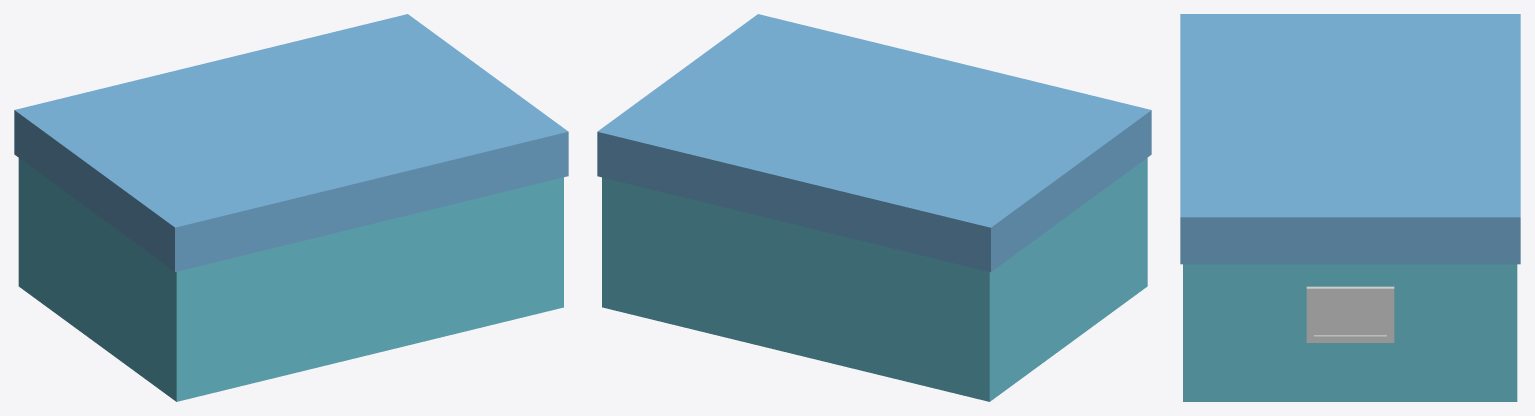
The picture shows the model from 3 angles, left to right: view 1: azimuth 30°, elevation 25°; view 2: azimuth 150°, elevation 25°; view 3: azimuth 270°, elevation 25°; orthographic projection. The views are drawn at different scales.
Parts seen in each view (by area): view 1: Kansi, Laatikko; view 2: Kansi, Laatikko; view 3: Kansi, Laatikko, Etiketti, Kehys.
Boxes of the visible parts, box(x1,y1,x2,y2) form: Kansi: box(14, 14, 568, 271); Laatikko: box(18, 158, 563, 401); Kansi: box(597, 14, 1151, 272); Laatikko: box(602, 158, 1147, 401); Kansi: box(1180, 14, 1520, 264); Laatikko: box(1183, 264, 1517, 401); Etiketti: box(1314, 295, 1386, 335); Kehys: box(1306, 286, 1394, 342).
Size of the model in its own units: 0.2746 by 0.1171 by 0.1939.
